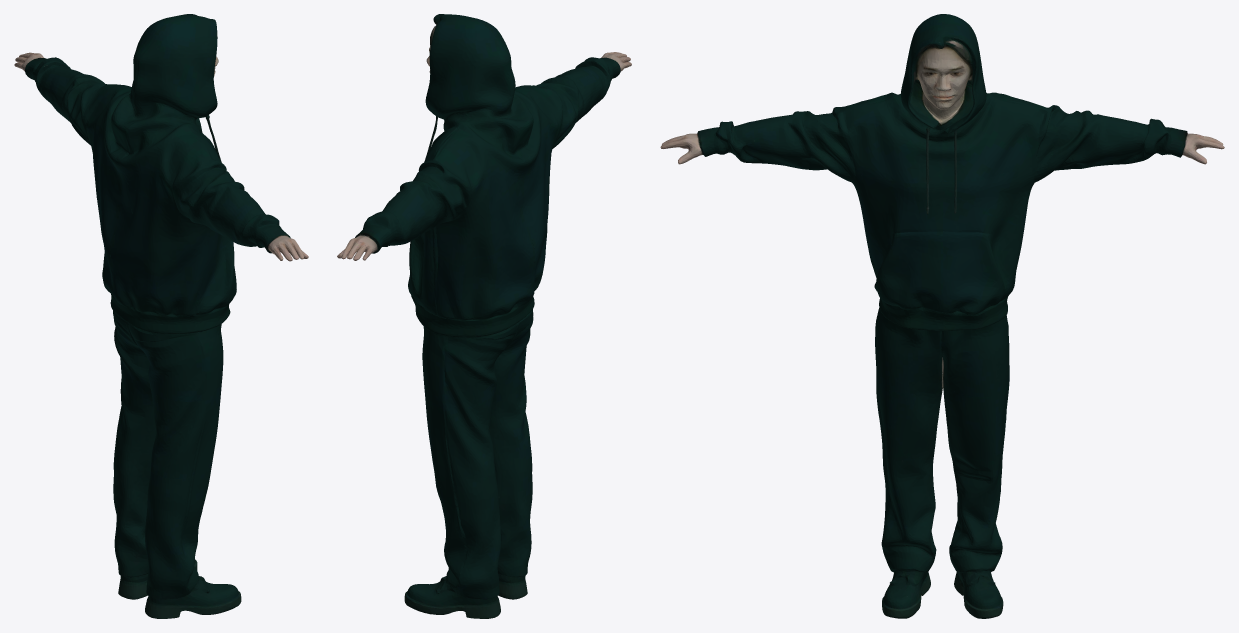
Rendered from man.fbx.
3 views of the same model, side by side, from view 1: azimuth 30°, elevation 25°; view 2: azimuth 150°, elevation 25°; view 3: azimuth 270°, elevation 25° (orthographic).
Parts seen in each view (by area): view 1: tripo_node_80ed93e5-449c-4e03-9a88-6585420bbdf1; view 2: tripo_node_80ed93e5-449c-4e03-9a88-6585420bbdf1; view 3: tripo_node_80ed93e5-449c-4e03-9a88-6585420bbdf1.
Part boxes in pixels (left/top/right/bottom): tripo_node_80ed93e5-449c-4e03-9a88-6585420bbdf1: left=14, top=14, right=308, bottom=618; tripo_node_80ed93e5-449c-4e03-9a88-6585420bbdf1: left=337, top=14, right=631, bottom=618; tripo_node_80ed93e5-449c-4e03-9a88-6585420bbdf1: left=660, top=14, right=1224, bottom=618.
Size of the model in its own units: 21.06 by 100 by 87.7.
1 material, 1 textured.
